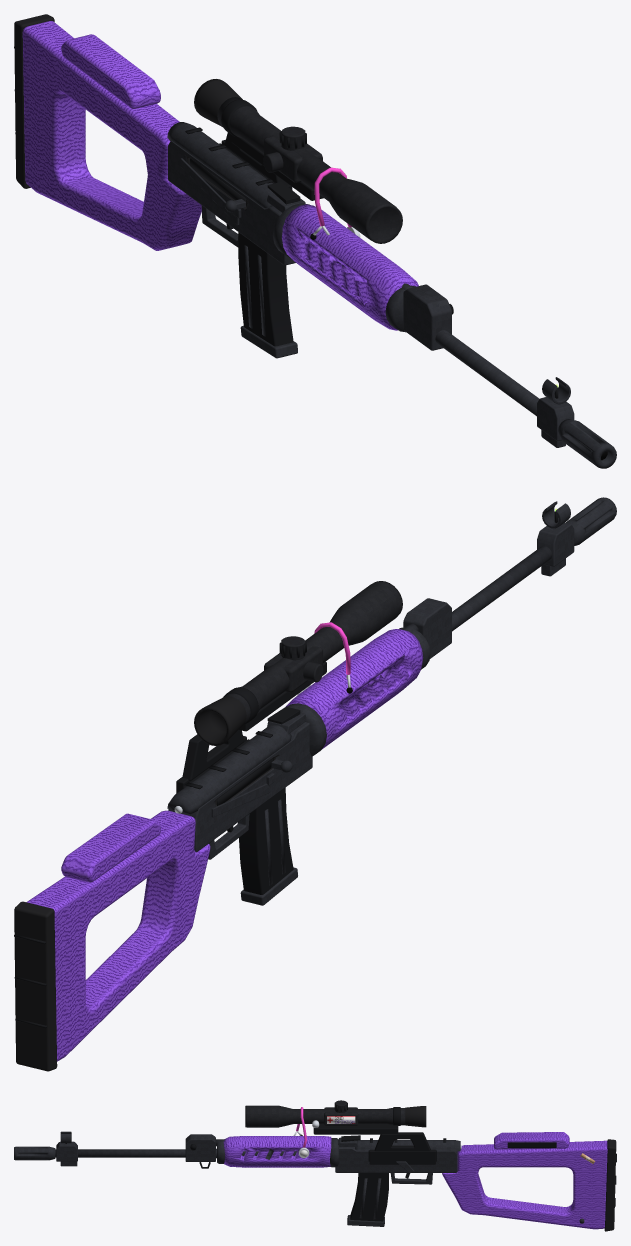
The model's file is w_dmr.glb.
The picture shows the model from 3 angles, top to bottom: view 1: azimuth 30°, elevation 25°; view 2: azimuth 150°, elevation 25°; view 3: azimuth 270°, elevation 25°; orthographic projection. The views are drawn at different scales.
Visible parts, largest first — view 1: dmr_body_wzA__dm_wood__p8249d2, dmr_body_wzB__dm_steel__m27292f, dmr_body_wzA__dm_steel__m27292f, dmr_body_wzB__dm_scope__p1d1e22, mag_wzB__dm_dark__p121316, dmr_body_wzB__dm_dark__p121316, dmr_body_wzA__dm_rubber__p1a1a1c, mag_wzB__dm_steel__m27292f; view 2: dmr_body_wzA__dm_wood__p8249d2, dmr_body_wzA__dm_steel__m27292f, dmr_body_wzA__dm_rubber__p1a1a1c, dmr_body_wzB__dm_steel__m27292f, dmr_body_wzB__dm_scope__p1d1e22, dmr_body_wzB__dm_dark__p121316, mag_wzB__dm_dark__p121316, mag_wzB__dm_steel__m27292f; view 3: dmr_body_wzA__dm_wood__p8249d2, dmr_body_wzB__dm_dark__p121316, dmr_body_wzB__dm_steel__m27292f, dmr_body_wzA__dm_steel__m27292f, dmr_body_wzB__dm_scope__p1d1e22, mag_wzB__dm_dark__p121316, dmr_body_wzA__dm_rubber__p1a1a1c, mag_wzB__dm_steel__m27292f, dmr_body_wzN__dm_sticker__pddb4c3.
Part boxes in pixels (x1,y1,x2,y2): dmr_body_wzA__dm_wood__p8249d2: [22, 21, 418, 330]; dmr_body_wzB__dm_steel__m27292f: [385, 283, 616, 468]; dmr_body_wzA__dm_steel__m27292f: [167, 122, 309, 265]; dmr_body_wzB__dm_scope__p1d1e22: [217, 97, 402, 243]; mag_wzB__dm_dark__p121316: [238, 232, 293, 346]; dmr_body_wzB__dm_dark__p121316: [14, 46, 558, 398]; dmr_body_wzA__dm_rubber__p1a1a1c: [14, 14, 250, 210]; mag_wzB__dm_steel__m27292f: [240, 245, 297, 358]; dmr_body_wzA__dm_wood__p8249d2: [26, 629, 423, 1061]; dmr_body_wzA__dm_steel__m27292f: [167, 703, 326, 859]; dmr_body_wzA__dm_rubber__p1a1a1c: [14, 696, 279, 1071]; dmr_body_wzB__dm_steel__m27292f: [399, 497, 616, 669]; dmr_body_wzB__dm_scope__p1d1e22: [225, 581, 402, 722]; dmr_body_wzB__dm_dark__p121316: [14, 511, 558, 1027]; mag_wzB__dm_dark__p121316: [239, 787, 293, 894]; mag_wzB__dm_steel__m27292f: [240, 799, 297, 905]; dmr_body_wzA__dm_wood__p8249d2: [223, 1132, 607, 1229]; dmr_body_wzB__dm_dark__p121316: [65, 1102, 616, 1206]; dmr_body_wzB__dm_steel__m27292f: [14, 1131, 584, 1223]; dmr_body_wzA__dm_steel__m27292f: [265, 1137, 460, 1184]; dmr_body_wzB__dm_scope__p1d1e22: [245, 1100, 405, 1127]; mag_wzB__dm_dark__p121316: [350, 1173, 388, 1221]; dmr_body_wzA__dm_rubber__p1a1a1c: [405, 1106, 616, 1231]; mag_wzB__dm_steel__m27292f: [347, 1178, 384, 1226]; dmr_body_wzN__dm_sticker__pddb4c3: [327, 1116, 355, 1123].
Bounding box in the file's own units: 0.093 × 0.3381 × 1.48.
Materials: 16 (5 with a texture image).
